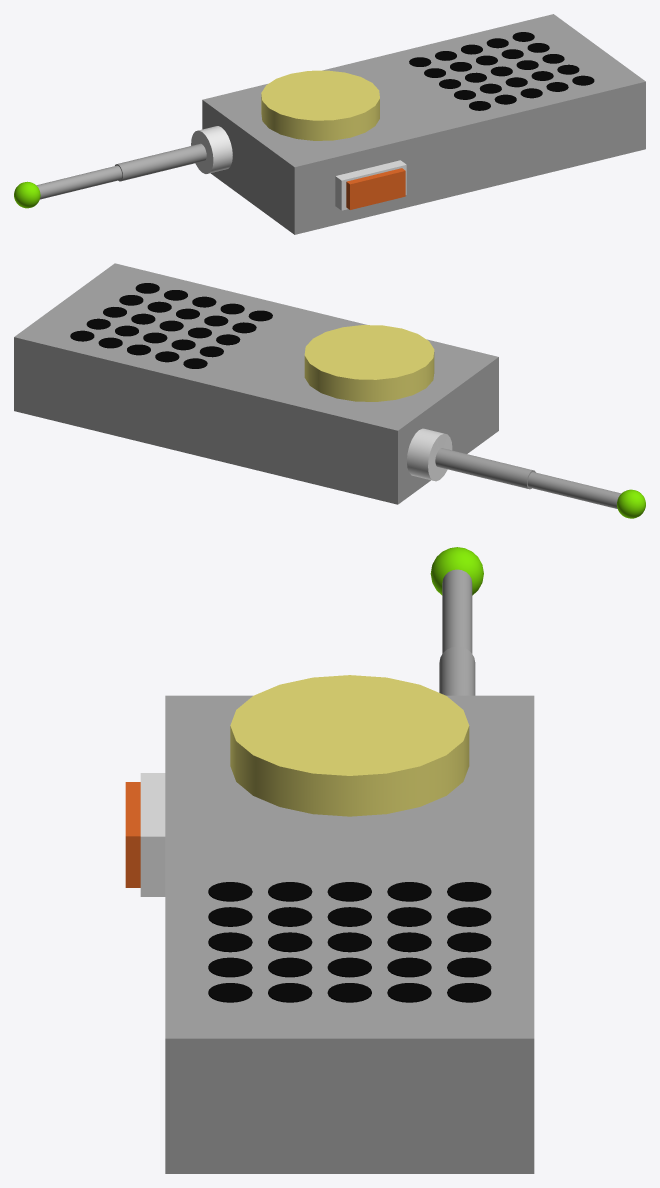
The model's file is rec.fbx.
The picture shows the model from 3 angles, top to bottom: view 1: azimuth 30°, elevation 25°; view 2: azimuth 150°, elevation 25°; view 3: azimuth 270°, elevation 25°; orthographic projection. The views are drawn at different scales.
Parts seen in each view (by area): view 1: reccorder2; view 2: reccorder2; view 3: reccorder2.
Boxes of the visible parts, left/top/right/bottom form: reccorder2: left=14, top=14, right=645, bottom=234; reccorder2: left=14, top=263, right=645, bottom=518; reccorder2: left=125, top=547, right=534, bottom=1173.
Size of the model in its own units: 10.77 by 1.62 by 3.42.
